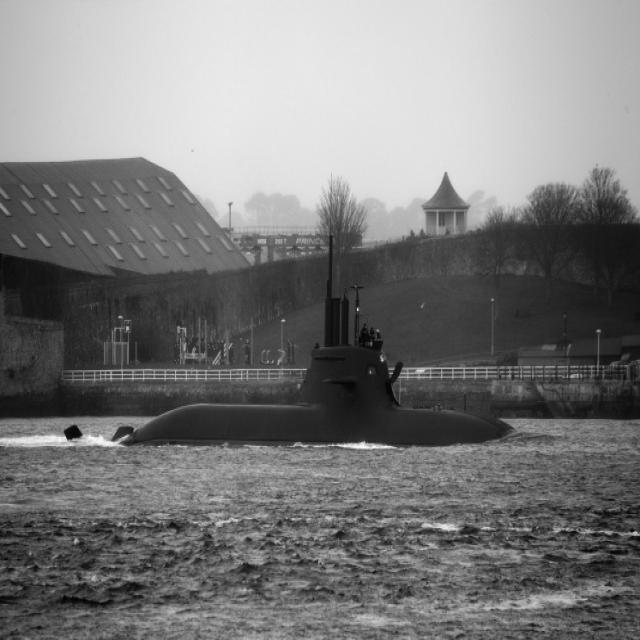submarine: (66, 226, 518, 443)
